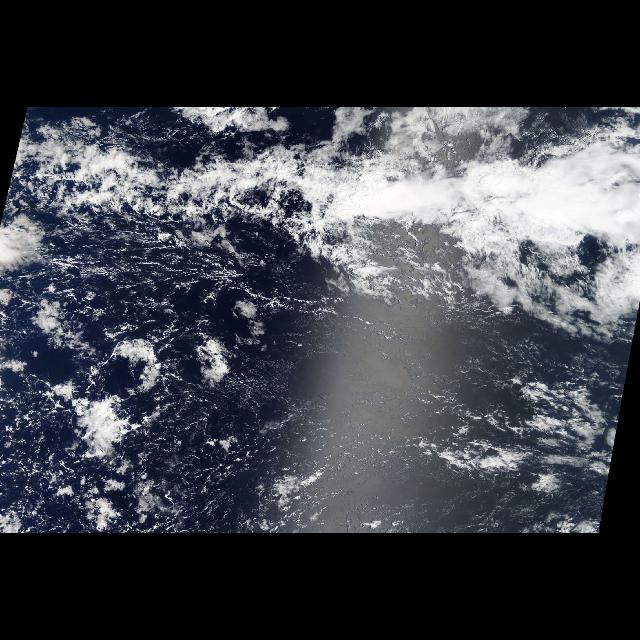Gravel: (3, 210, 273, 528)
Sugar: (242, 326, 416, 526), (64, 230, 230, 280)
